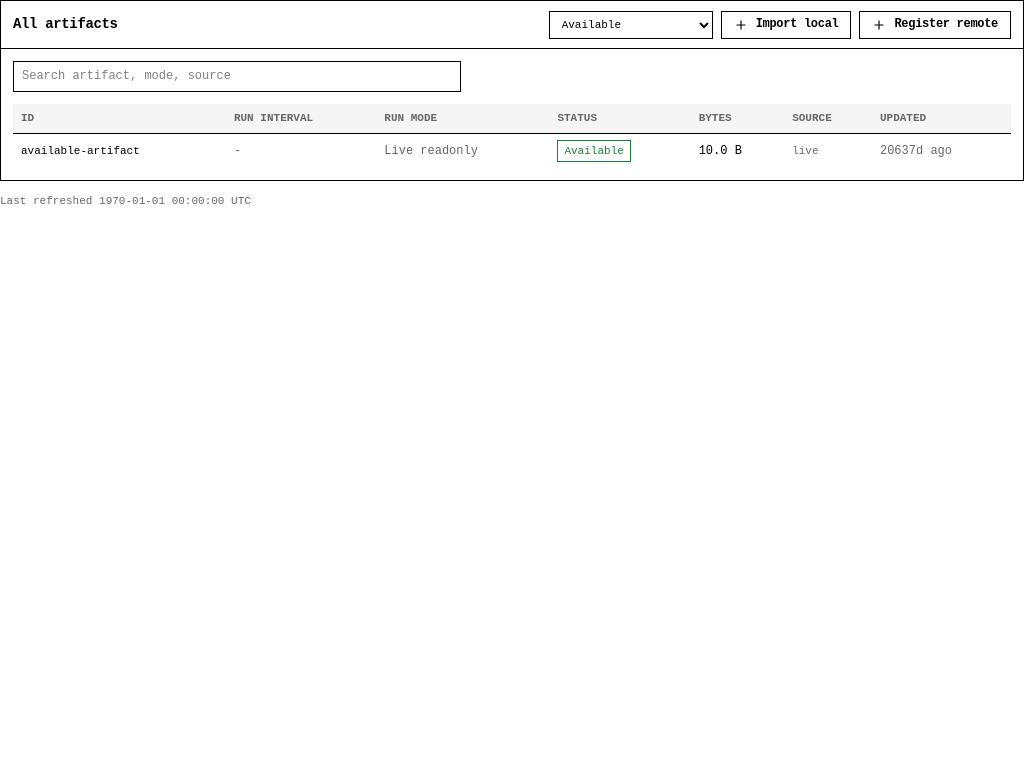
it: ResearchArtifactsPage › admin import dialog surfaces the API error and stays open on failure
Click the button "Import local" at (786, 24), box left=721, top=10, right=851, bottom=38
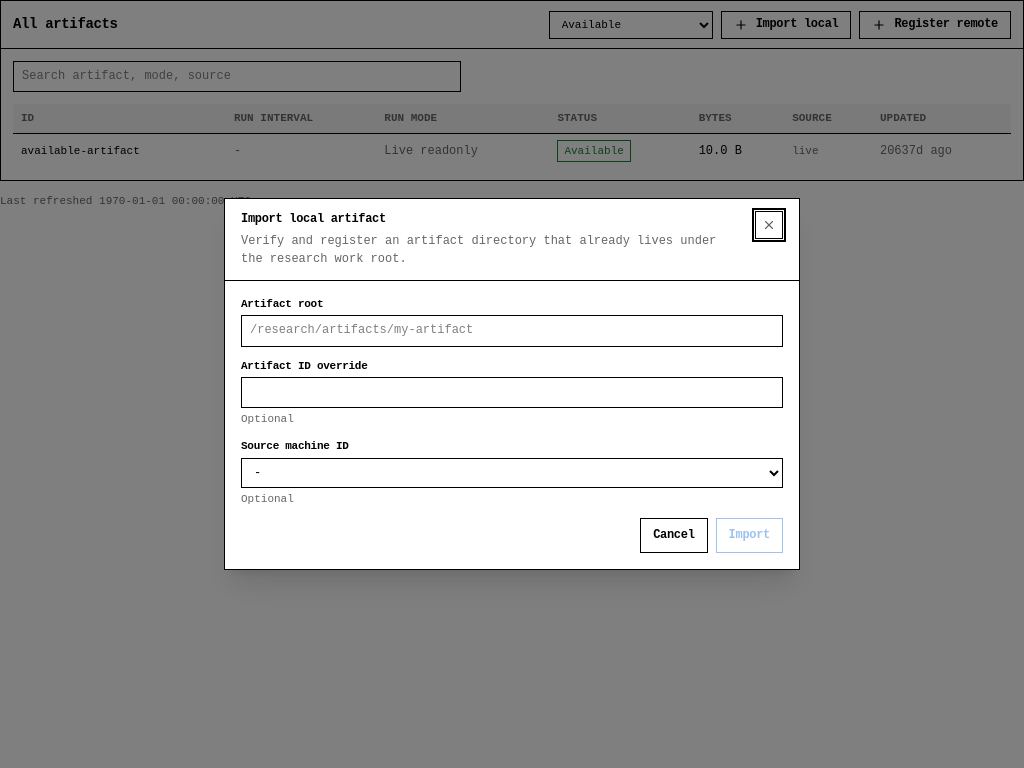
Check: the dialog is shown, box left=224, top=198, right=800, bottom=570
Type "/research/artifacts/missing" into the field labelled "Artifact root" at (512, 331), box left=241, top=315, right=783, bottom=346
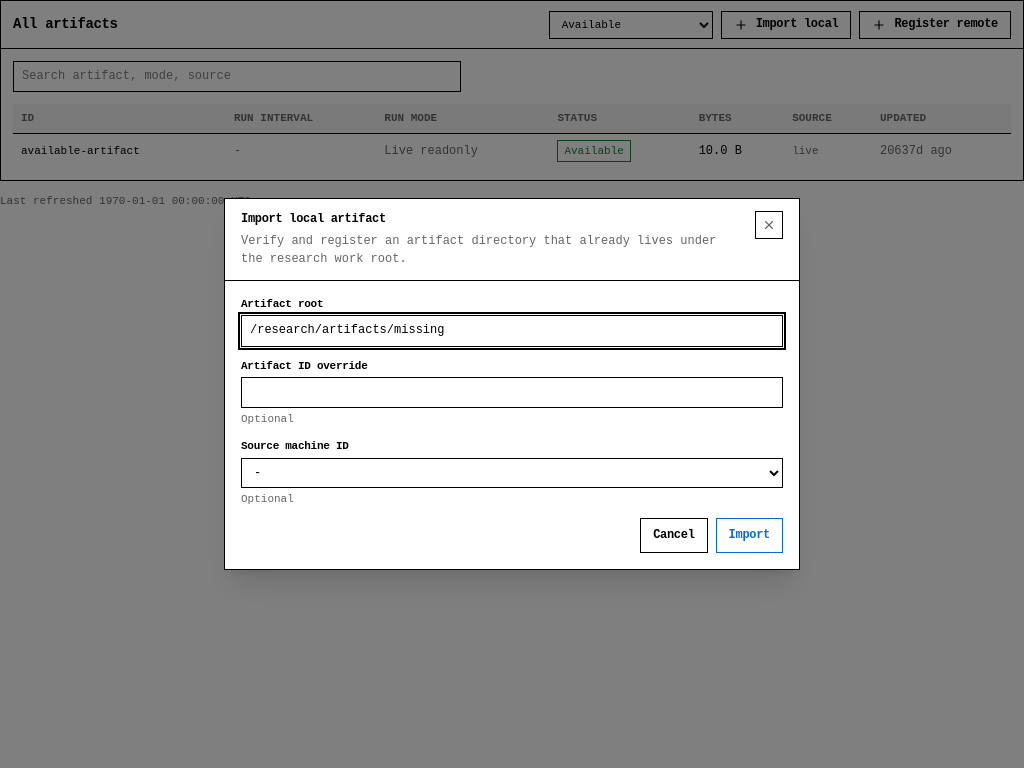
Click the button "Import" at (749, 536), box left=716, top=518, right=783, bottom=553
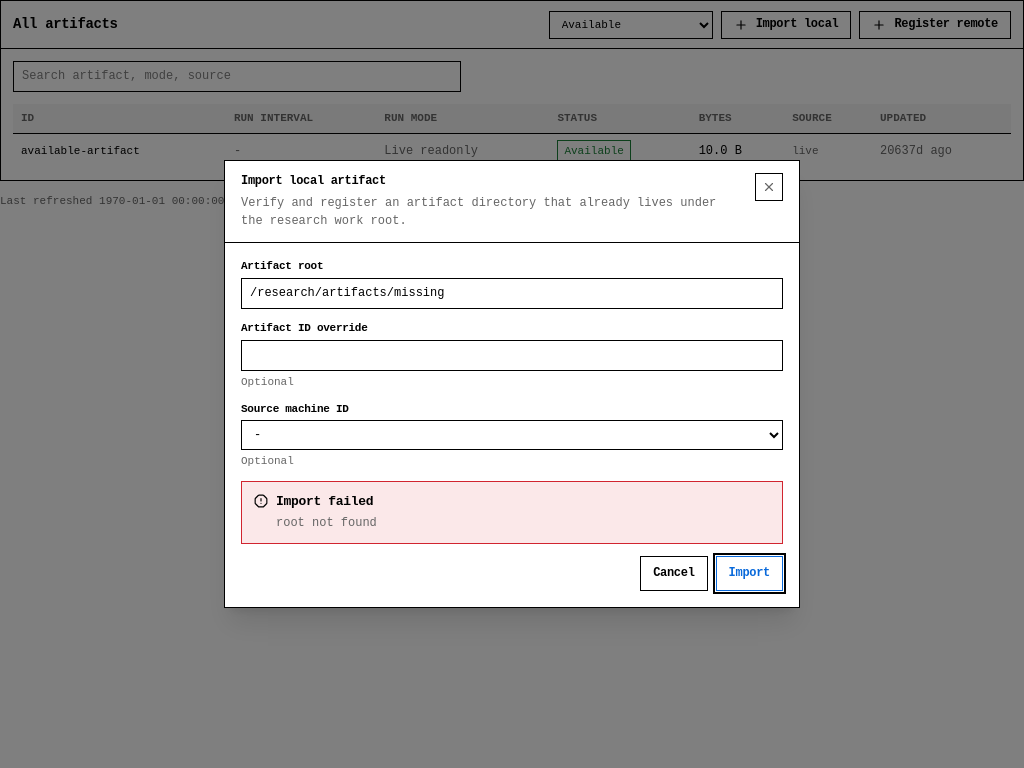
Check: the dialog is shown, box left=224, top=160, right=800, bottom=608
Check: the text "root not found" is shown, box left=276, top=516, right=377, bottom=530
